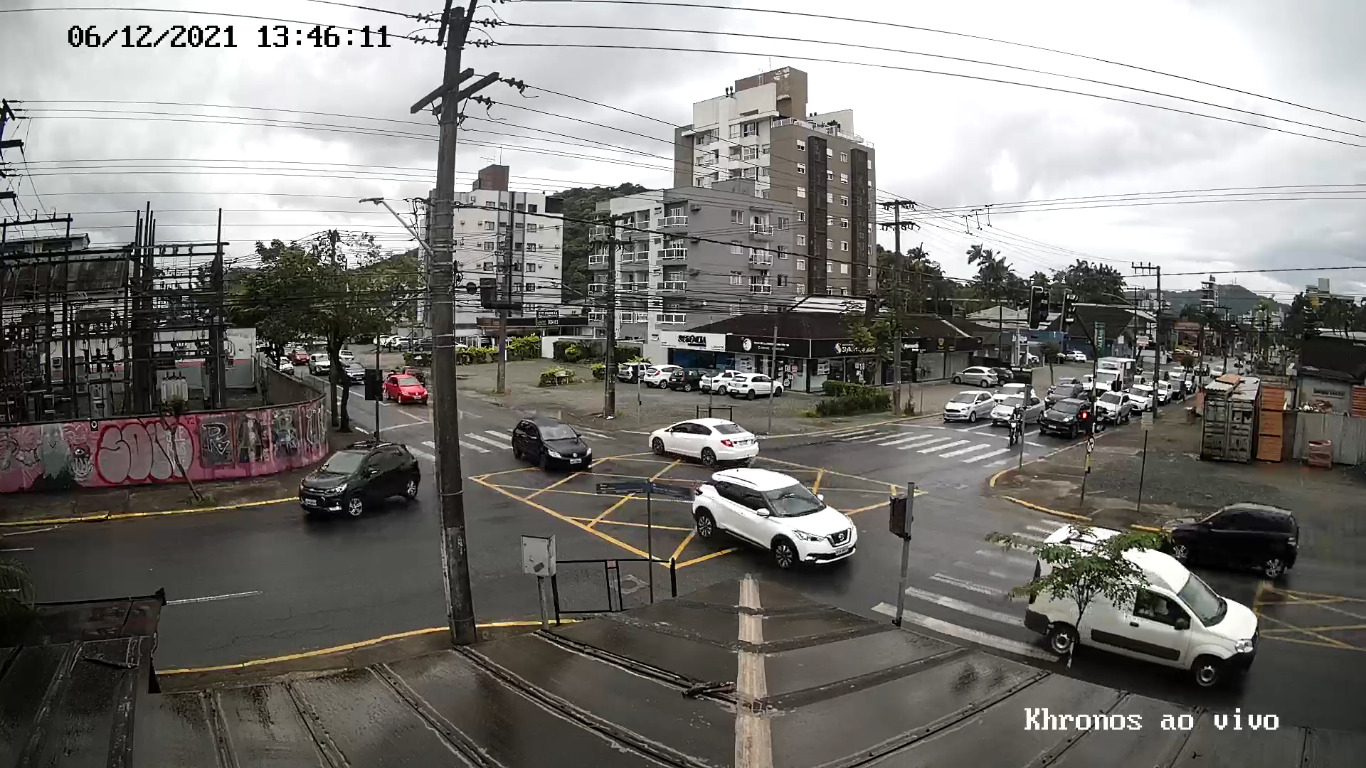car: (1024, 525, 1259, 702), (692, 466, 858, 573), (1160, 502, 1299, 579), (297, 440, 421, 517), (648, 418, 759, 466), (511, 417, 591, 472)
